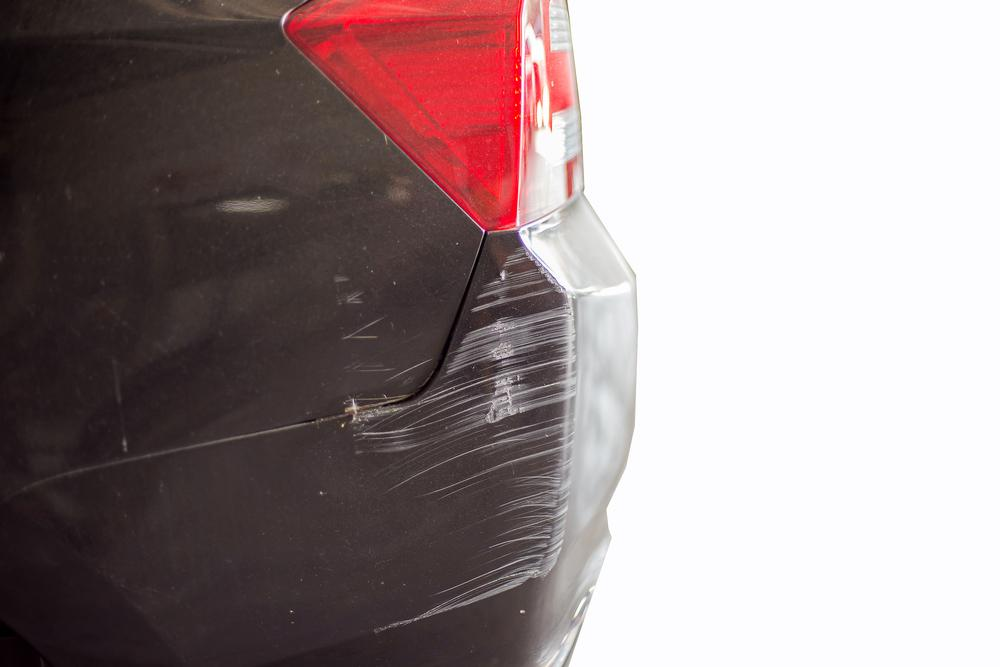scratch: (345, 244, 585, 637)
